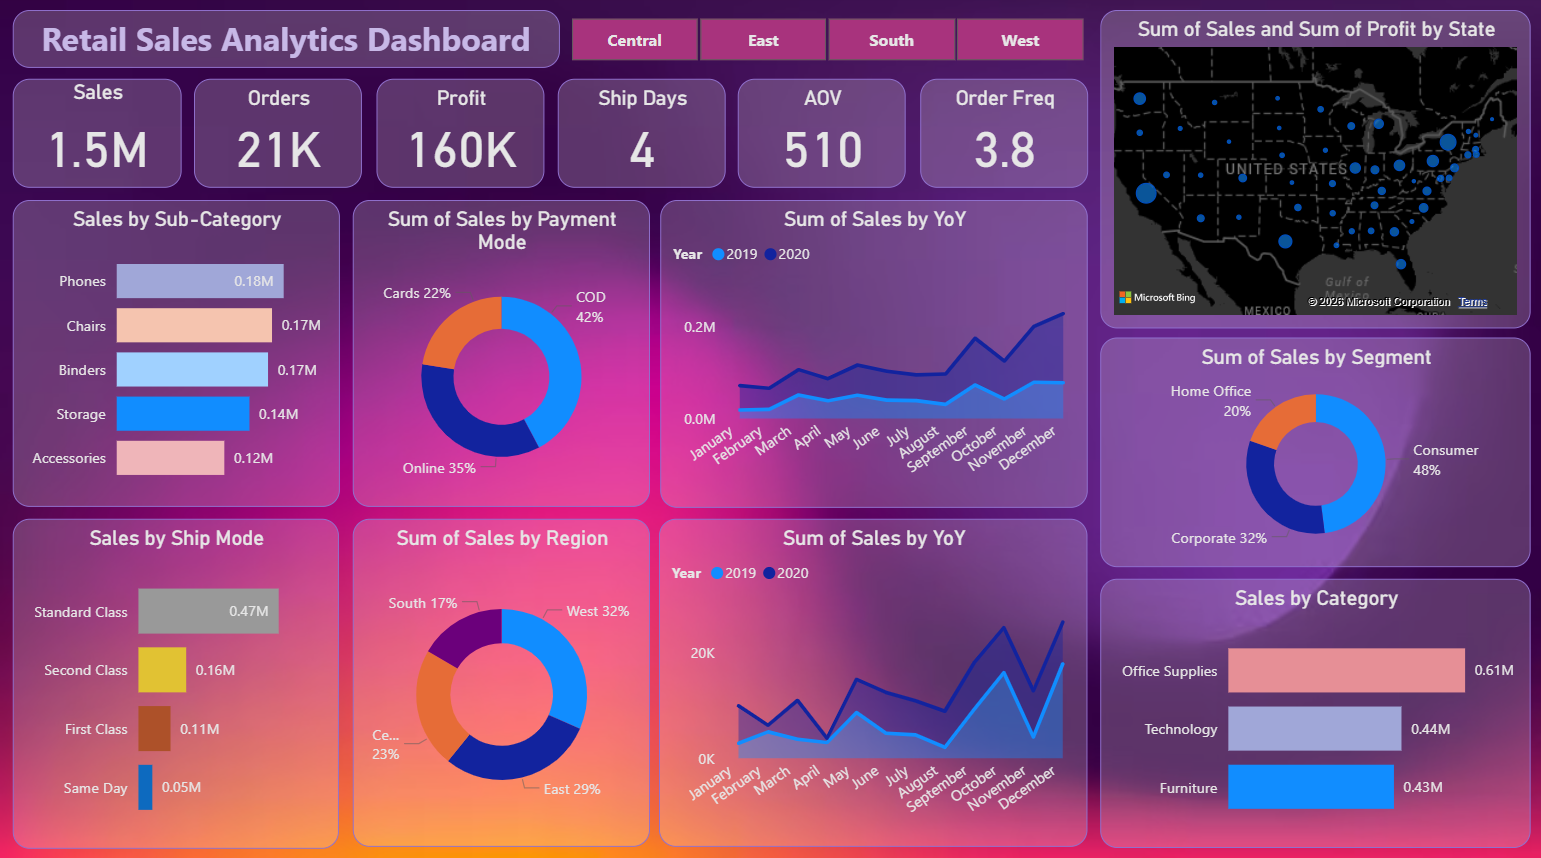

The dashboard page shown, as its layout file describes it:
{"tool":"powerbi","page":{"name":"Page 1","canvas":[1280,720],"ordinal":0},"visuals":[{"type":"clusteredBarChart","title":"Sales by Category","fields":{"Category":["SuperStore_Sales_Dataset.Category"],"Y":["Sum(SuperStore_Sales_Dataset.Sales)"]},"box":[912.9,484.3,357.1,222.9],"z":0},{"type":"clusteredBarChart","title":"Sales by Sub-Category","fields":{"Category":["SuperStore_Sales_Dataset.Sub-Category"],"Y":["Sum(SuperStore_Sales_Dataset.Sales)"]},"box":[11.1,170.1,271,254.4],"z":1000},{"type":"clusteredBarChart","title":"Sales by Ship Mode","fields":{"Category":["SuperStore_Sales_Dataset.Ship Mode"],"Y":["Sum(SuperStore_Sales_Dataset.Sales)"]},"box":[11.3,433.8,270.4,273.2],"z":2000},{"type":"stackedAreaChart","title":"Sum of Sales by YoY","fields":{"Y":["Sum(SuperStore_Sales_Dataset.Sales)"],"Category":["SuperStore_Sales_Dataset.Order Date.Variation.Date Hierarchy.Month"],"Series":["SuperStore_Sales_Dataset.Order Date.Variation.Date Hierarchy.Year"]},"box":[547.7,169.8,354.7,255],"z":3000},{"type":"map","fields":{"Category":["SuperStore_Sales_Dataset.State"],"Size":["Sum(SuperStore_Sales_Dataset.Sales)"]},"box":[912.9,12.9,357.1,264.3],"z":4000},{"type":"donutChart","fields":{"Category":["SuperStore_Sales_Dataset.Segment"],"Y":["Sum(SuperStore_Sales_Dataset.Sales)"]},"box":[912.9,284.3,357.1,190],"z":5000},{"type":"donutChart","fields":{"Category":["SuperStore_Sales_Dataset.Region"],"Y":["Sum(SuperStore_Sales_Dataset.Sales)"]},"box":[293,433.8,246.5,271.8],"z":6000},{"type":"donutChart","fields":{"Category":["SuperStore_Sales_Dataset.Payment Mode"],"Y":["Sum(SuperStore_Sales_Dataset.Sales)"]},"box":[293.1,170.1,246.1,254.4],"z":7000},{"type":"slicer","fields":{"Values":["SuperStore_Sales_Dataset.Region"]},"box":[448.6,12.9,474.3,48.6],"z":8000},{"type":"stackedAreaChart","title":"Sum of Sales by YoY","fields":{"Category":["SuperStore_Sales_Dataset.Order Date.Variation.Date Hierarchy.Month"],"Series":["SuperStore_Sales_Dataset.Order Date.Variation.Date Hierarchy.Year"],"Y":["Sum(SuperStore_Sales_Dataset.Profit)"]},"box":[547.5,434.1,355.3,272.4],"z":9000},{"type":"textbox","box":[11.1,12.4,453.5,48.4],"z":10000},{"type":"card","title":"Sales","fields":{"Values":["Sum(SuperStore_Sales_Dataset.Sales)"]},"box":[11.3,69,140,90],"z":11000},{"type":"card","title":"Orders","fields":{"Values":["Sum(SuperStore_Sales_Dataset.Quantity)"]},"box":[162,69,139.4,90.1],"z":12000},{"type":"card","title":"Profit","fields":{"Values":["Sum(SuperStore_Sales_Dataset.Profit)"]},"box":[312.7,69,139.4,90.1],"z":13000},{"type":"card","title":"Ship Days","fields":{"Values":["Avg(SuperStore_Sales_Dataset.AvgDelivery)"]},"box":[463.4,69,139.4,90.1],"z":14000},{"type":"card","title":"AOV","fields":{"Values":["Salesforecast.AOV"]},"box":[612.7,69,139.4,90.1],"z":15000},{"type":"card","title":"Order Freq","fields":{"Values":["Salesforecast.Orders per Customer"]},"box":[763.4,69,139.4,90.1],"z":16000}]}

Visuals, with their boxes in screenshot pixels (x1, y1, x2, y2), scaled from the page's 1280x720 canvas onto the 1541x858 screenshot:
"Sales by Category" clusteredBarChart: 1099/577/1529/843
"Sales by Sub-Category" clusteredBarChart: 13/203/340/506
"Sales by Ship Mode" clusteredBarChart: 14/517/339/843
"Sum of Sales by YoY" stackedAreaChart: 659/202/1086/506
map - SuperStore_Sales_Dataset.State x Sum(SuperStore_Sales_Dataset.Sales): 1099/15/1529/330
donutChart - SuperStore_Sales_Dataset.Segment x Sum(SuperStore_Sales_Dataset.Sales): 1099/339/1529/565
donutChart - SuperStore_Sales_Dataset.Region x Sum(SuperStore_Sales_Dataset.Sales): 353/517/650/841
donutChart - SuperStore_Sales_Dataset.Payment Mode x Sum(SuperStore_Sales_Dataset.Sales): 353/203/649/506
slicer - SuperStore_Sales_Dataset.Region: 540/15/1111/73
"Sum of Sales by YoY" stackedAreaChart: 659/517/1087/842
textbox: 13/15/559/72
"Sales" card: 14/82/182/189
"Orders" card: 195/82/363/190
"Profit" card: 376/82/544/190
"Ship Days" card: 558/82/726/190
"AOV" card: 738/82/905/190
"Order Freq" card: 919/82/1087/190
